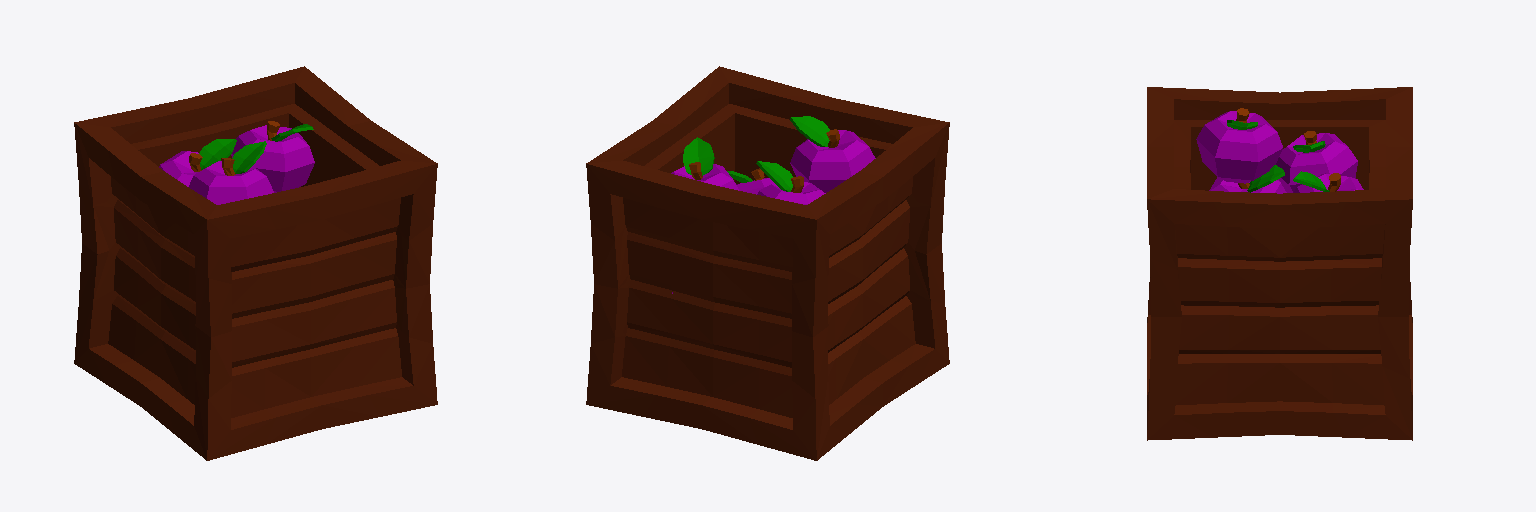
File: crate_berry.mtl.obj
3 views of the same model, side by side, from view 1: azimuth 30°, elevation 25°; view 2: azimuth 150°, elevation 25°; view 3: azimuth 270°, elevation 25° (orthographic).
Parts seen in each view (by area): view 1: Cube.005, Plane.002; view 2: Cube.005, Plane.002; view 3: Cube.005, Plane.002.
Boxes of the visible parts, x1=… form: Cube.005: x1=74, y1=66, x2=437, y2=460; Plane.002: x1=159, y1=121, x2=314, y2=204; Cube.005: x1=586, y1=66, x2=949, y2=460; Plane.002: x1=671, y1=116, x2=875, y2=293; Cube.005: x1=1147, y1=87, x2=1412, y2=440; Plane.002: x1=1196, y1=108, x2=1363, y2=193.
Bounding box in the file's own units: 2 × 2.13 × 2.